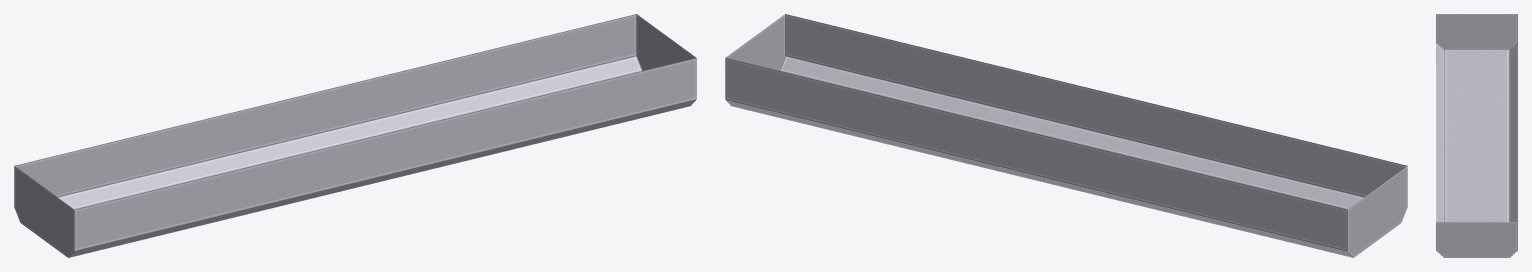
File: Column_Top_01.FBX
3 views of the same model, side by side, from view 1: azimuth 30°, elevation 25°; view 2: azimuth 150°, elevation 25°; view 3: azimuth 270°, elevation 25° (orthographic). The views are drawn at different scales.
Visible parts, largest first — view 1: Column_Top_01; view 2: Column_Top_01; view 3: Column_Top_01.
Part boxes in pixels (x1,y1,x2,y2): Column_Top_01: (14, 14, 696, 257); Column_Top_01: (725, 14, 1407, 257); Column_Top_01: (1436, 14, 1517, 257).
Bounding box in the file's own units: 6 × 0.4859 × 1.
Materials: 1 (1 with a texture image).
